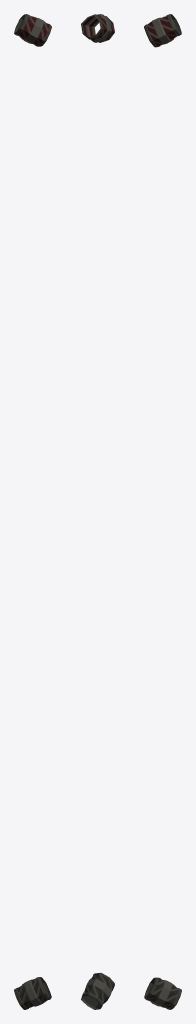
File: mediumBowTacticalTip.glb
3 views of the same model, side by side, from view 1: azimuth 90°, elevation 25°; view 2: azimuth 150°, elevation 25°; view 3: azimuth 270°, elevation 25° (orthographic).
Visible parts, largest first — view 1: mediumBowTacticalTip; view 2: mediumBowTacticalTip; view 3: mediumBowTacticalTip.
Boxes of the visible parts, x1=… form: mediumBowTacticalTip: x1=14, y1=14, x2=51, y2=1009; mediumBowTacticalTip: x1=81, y1=14, x2=114, y2=1009; mediumBowTacticalTip: x1=144, y1=14, x2=181, y2=1009.
Size of the model in its own units: 0.0358 by 1.39 by 0.0479.
